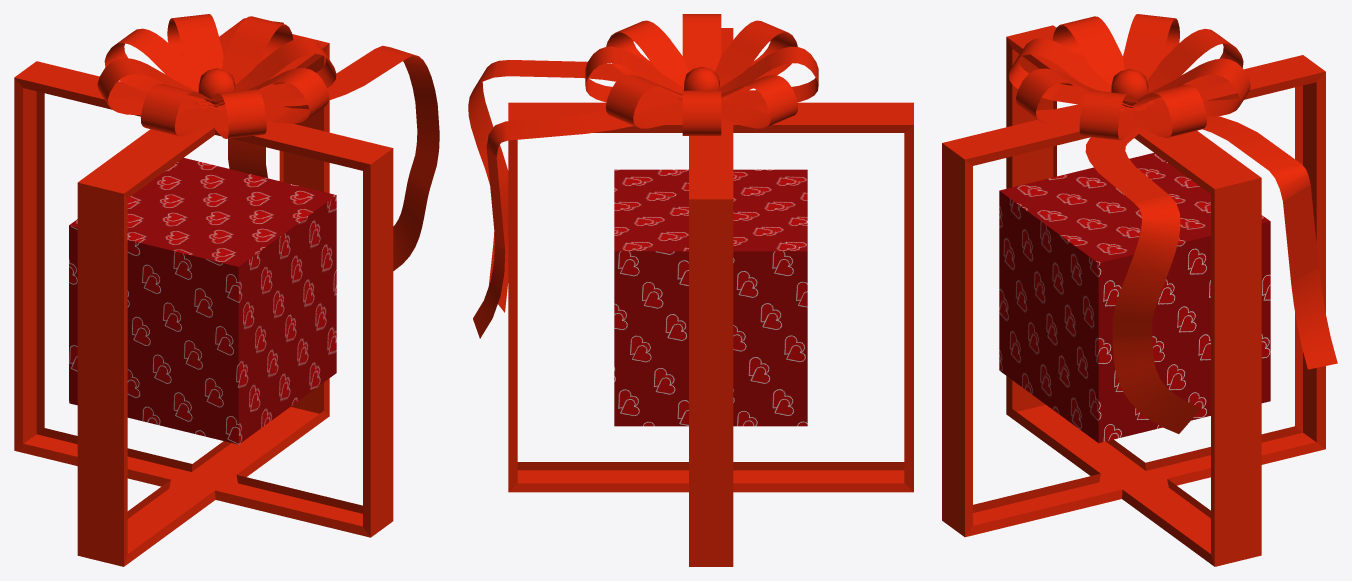
3 views of the same model, side by side, from view 1: azimuth 30°, elevation 25°; view 2: azimuth 150°, elevation 25°; view 3: azimuth 270°, elevation 25° (orthographic). The views are drawn at different scales.
Parts seen in each view (by area): view 1: Cube, GiftBox; view 2: Cube, GiftBox; view 3: Cube, GiftBox.
Part boxes in pixels (x1,y1,x2,y2): Cube: (14,14,439,566); GiftBox: (69,158,336,444); Cube: (468,14,913,566); GiftBox: (614,169,807,426); Cube: (942,14,1337,566); GiftBox: (999,153,1270,443).
Bounding box in the file's own units: 9.36 × 7.97 × 9.64.
Materials: 2 (1 with a texture image).
